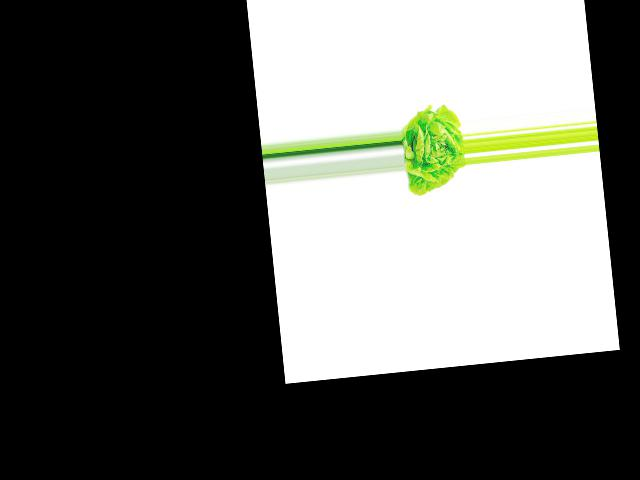lettuce: (398, 105, 468, 198)
